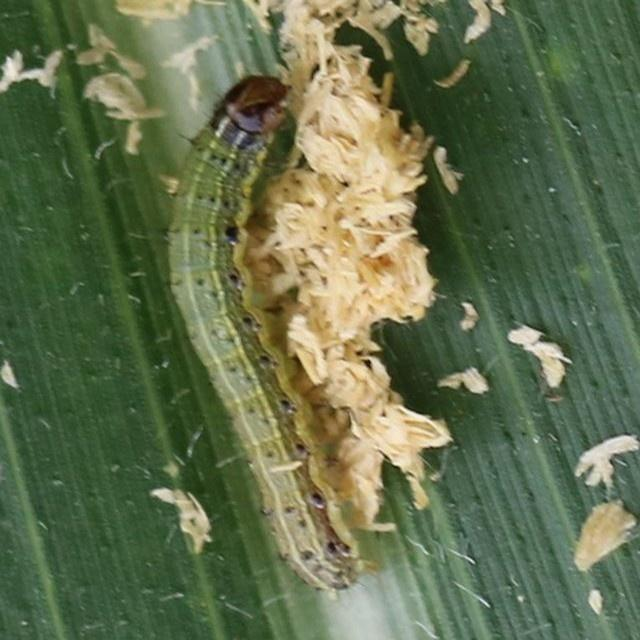gusano_cogollero: (173, 77, 340, 580)
